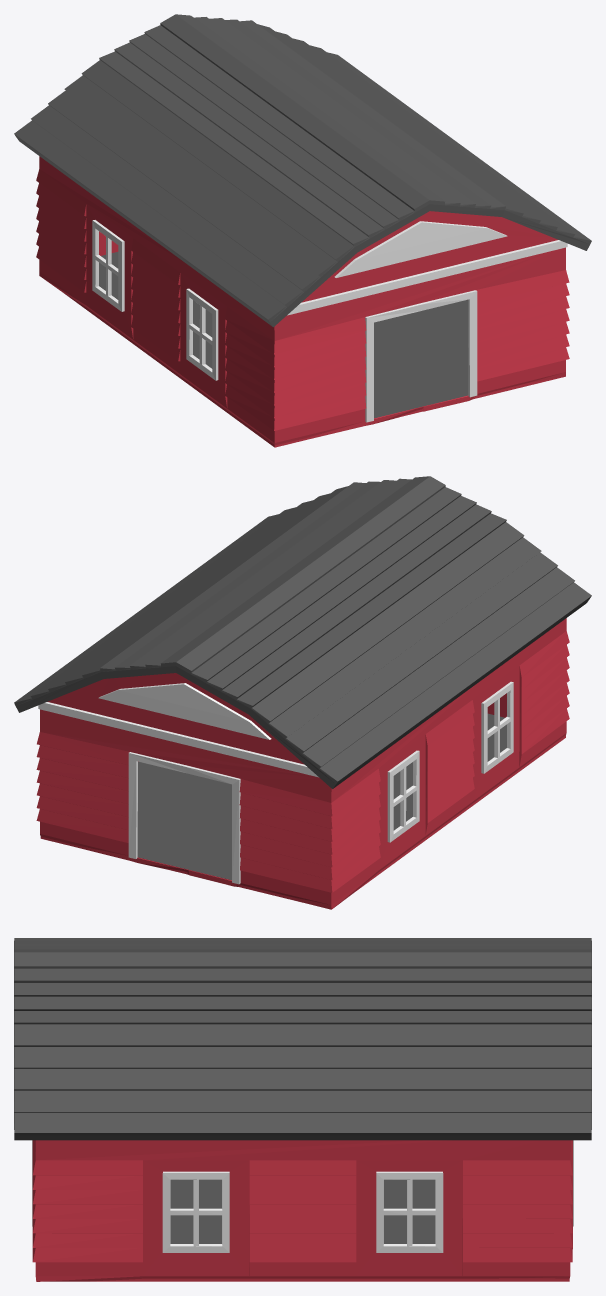
The model's file is 057 Warehouse_1.FBX.
3 renders of one model, top to bottom at view 1: azimuth 30°, elevation 25°; view 2: azimuth 150°, elevation 25°; view 3: azimuth 270°, elevation 25°, orthographic. The views are drawn at different scales.
Parts seen in each view (by area): view 1: Box093; view 2: Box093; view 3: Box093.
Boxes of the visible parts, <box> form: Box093: <box>14,14,591,447</box>; Box093: <box>14,476,591,909</box>; Box093: <box>14,938,591,1281</box>.
Size of the model in its own units: 557 by 361 by 758.
